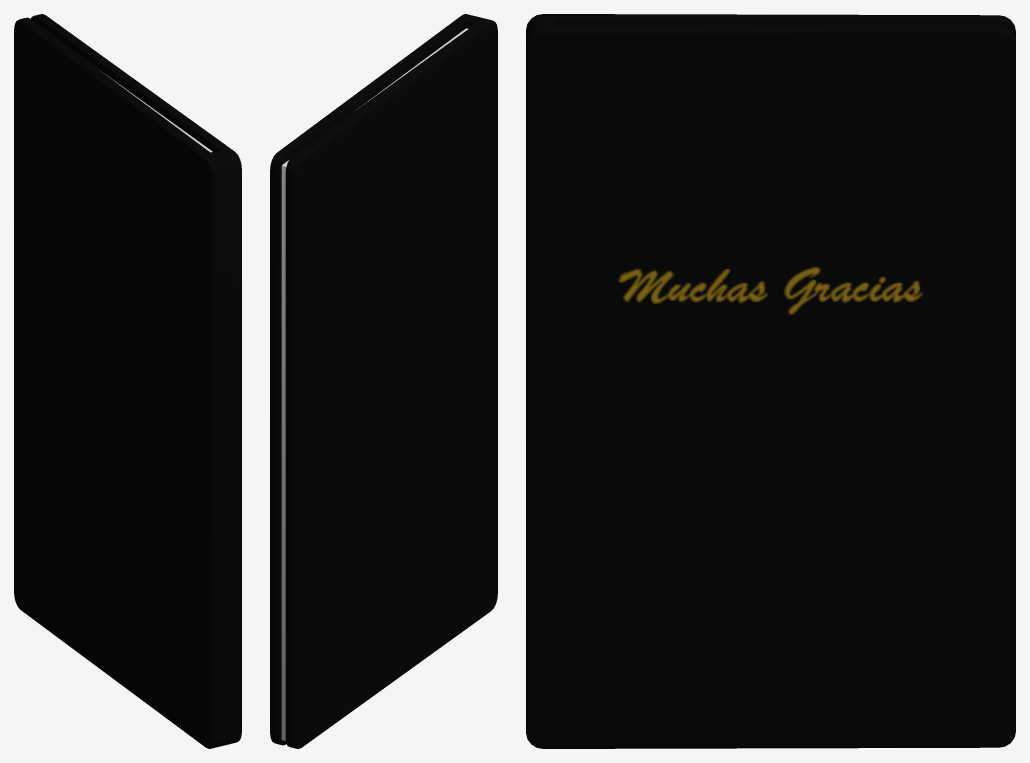
File: newCheck.fbx
The picture shows the model from 3 angles, left to right: view 1: azimuth 30°, elevation 25°; view 2: azimuth 150°, elevation 25°; view 3: azimuth 270°, elevation 25°; orthographic projection. The views are drawn at different scales.
Visible parts, largest first — view 1: Cube; view 2: Cube; view 3: Cube.
Part boxes in pixels (left/top/right/bottom): Cube: left=14, top=14, right=241, bottom=748; Cube: left=270, top=14, right=497, bottom=748; Cube: left=526, top=14, right=1015, bottom=748.
Size of the model in its own units: 2.9 by 53.05 by 32.76.
Materials: 2 (1 with a texture image).
